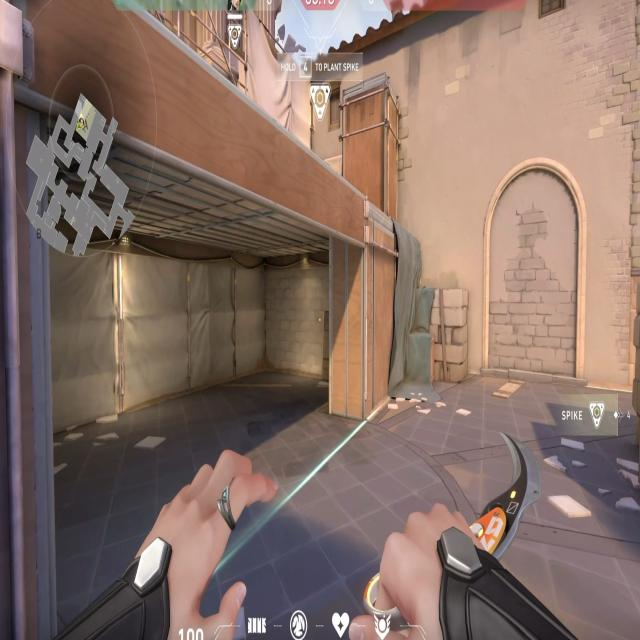A_Heaven_Box: (341, 64, 411, 230)
